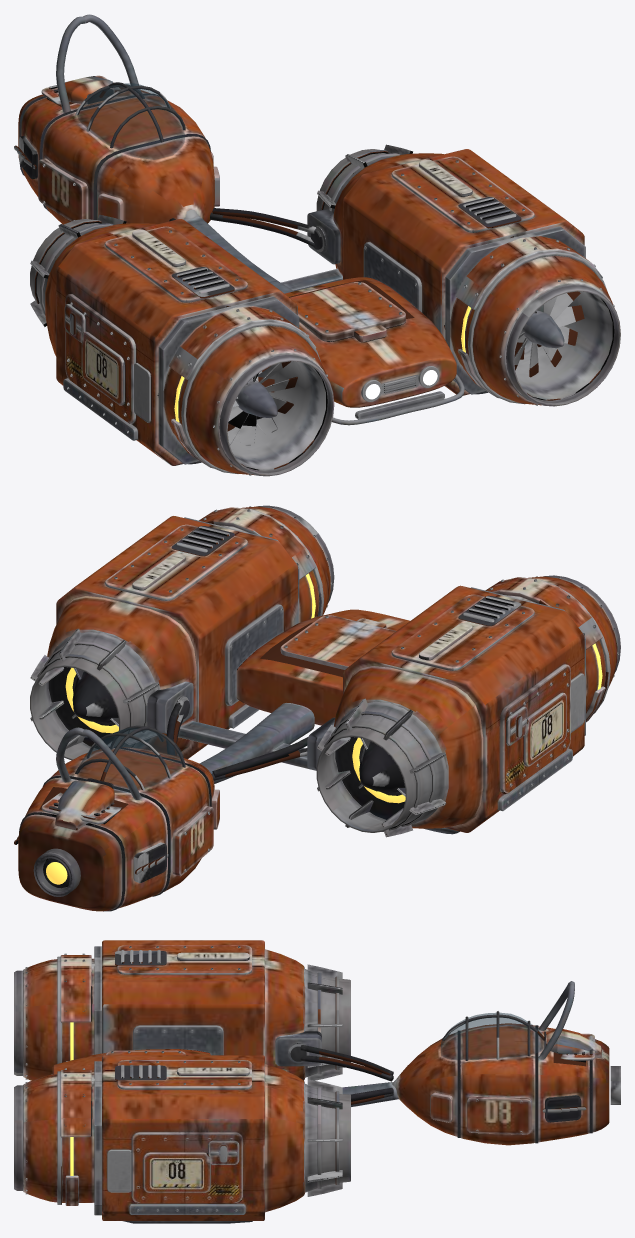
Rendered from talon.glb.
The picture shows the model from 3 angles, top to bottom: view 1: azimuth 30°, elevation 25°; view 2: azimuth 150°, elevation 25°; view 3: azimuth 270°, elevation 25°; orthographic projection. The views are drawn at different scales.
Parts seen in each view (by area): view 1: talon_body, canopy, fan_L, fan_R, talon_emissive; view 2: talon_body, canopy, talon_emissive; view 3: talon_body, canopy.
Boxes of the visible parts, <box> form: talon_body: <box>14,14,620,476</box>; canopy: <box>77,83,184,159</box>; fan_L: <box>514,291,584,377</box>; fan_R: <box>228,361,297,445</box>; talon_emissive: <box>174,306,470,422</box>; talon_body: <box>14,505,620,911</box>; canopy: <box>77,728,184,792</box>; talon_emissive: <box>46,573,602,884</box>; talon_body: <box>14,940,620,1223</box>; canopy: <box>441,1012,546,1059</box>.
Bounding box in the file's own units: 3.29 × 1.45 × 4.69.
Materials: 6 (2 with a texture image).
